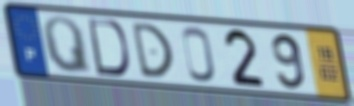0: (180, 25, 217, 83)
2: (223, 28, 268, 90)
9: (271, 32, 306, 91)
D: (85, 16, 131, 79), (129, 21, 176, 80)
Q: (40, 14, 94, 77)
